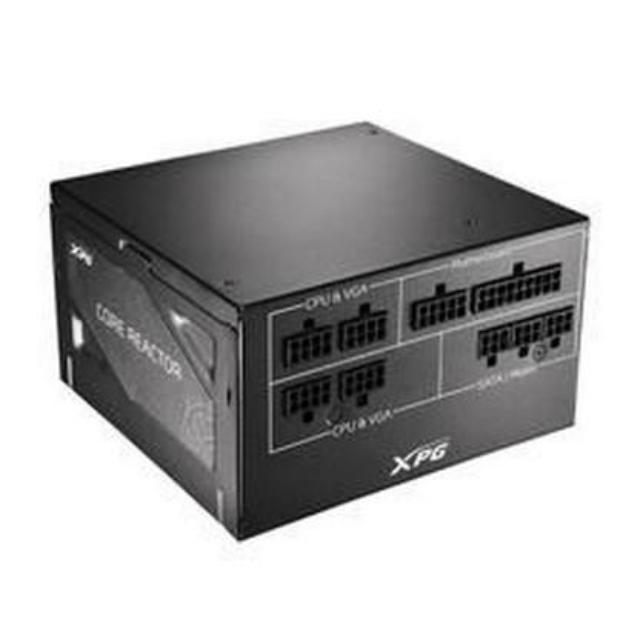PSU: (21, 116, 592, 541)
